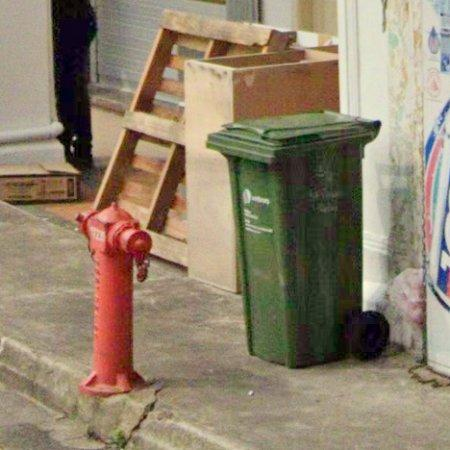a fire hydrant: (76, 204, 152, 396)
